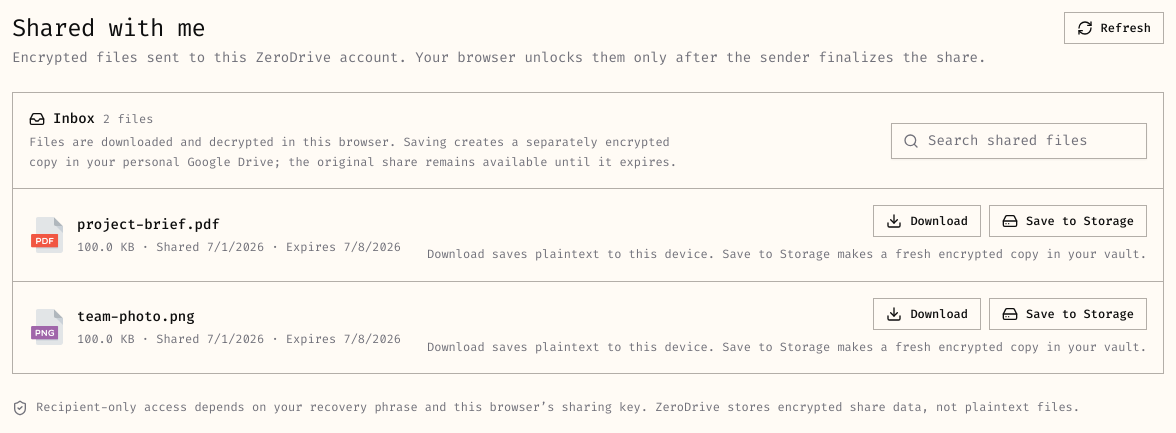
SharedWithMePage › filters the inbox by filename
expect the heading "project-brief.pdf" is shown: met, box [77,215,220,234]
Type "photo" into the field labelled "Search shared files" at x=1019, y=140, box [891,122,1147,158]
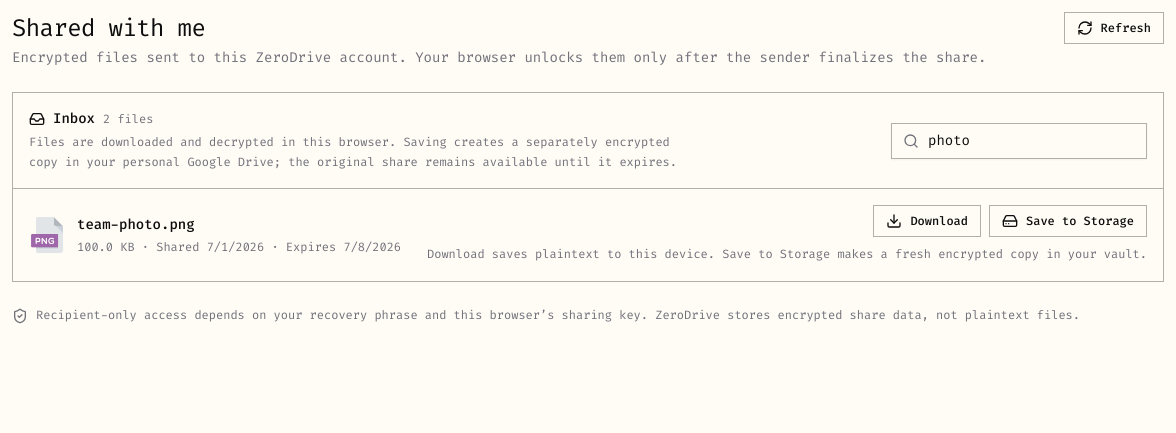
expect the heading "team-photo.png" is shown: met, box [77,215,195,234]
expect the heading "project-brief.pdf" is gone: met
